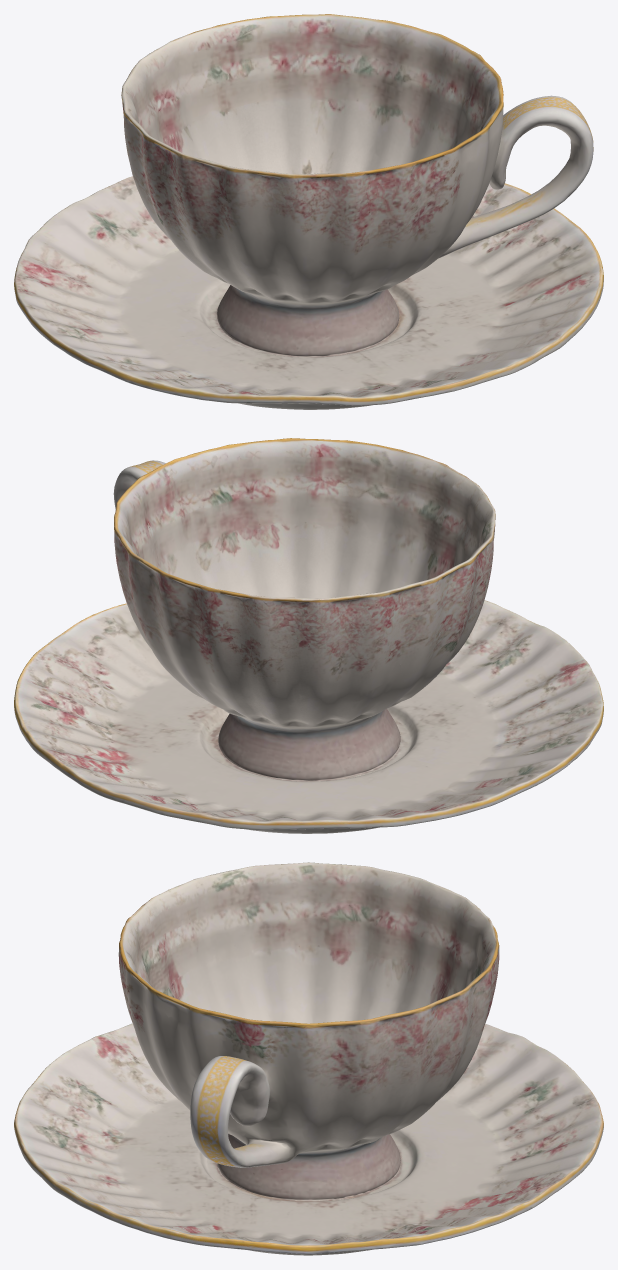
Rendered from xicara-2.glb.
3 views of the same model, one above another, from view 1: azimuth 30°, elevation 25°; view 2: azimuth 150°, elevation 25°; view 3: azimuth 270°, elevation 25° (orthographic).
Parts seen in each view (by area): view 1: tripo_node_7263a861-d008-438e-9475-50d612f6fc2e; view 2: tripo_node_7263a861-d008-438e-9475-50d612f6fc2e; view 3: tripo_node_7263a861-d008-438e-9475-50d612f6fc2e.
Part boxes in pixels (left/top/right/bottom): tripo_node_7263a861-d008-438e-9475-50d612f6fc2e: left=14, top=14, right=603, bottom=409; tripo_node_7263a861-d008-438e-9475-50d612f6fc2e: left=14, top=438, right=603, bottom=833; tripo_node_7263a861-d008-438e-9475-50d612f6fc2e: left=14, top=862, right=603, bottom=1255.
Bounding box in the file's own units: 1 × 0.4532 × 0.9988.
1 material, 1 textured.
